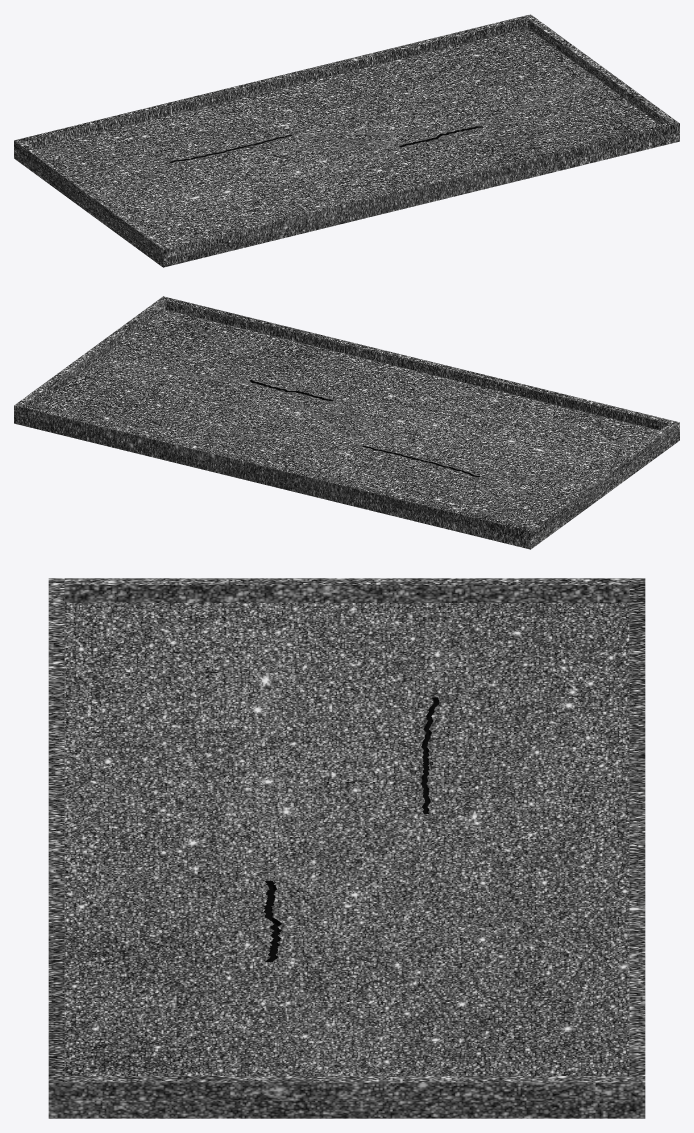
File: road.dae
3 renders of one model, top to bottom at view 1: azimuth 30°, elevation 25°; view 2: azimuth 150°, elevation 25°; view 3: azimuth 270°, elevation 25°, orthographic. The views are drawn at different scales.
Parts seen in each view (by area): view 1: Brep; view 2: Brep; view 3: Brep.
Boxes of the visible parts, <box> form: Brep: <box>14,14,679,267</box>; Brep: <box>14,296,679,549</box>; Brep: <box>48,578,645,1118</box>.
Size of the model in its own units: 300 by 150 by 10.
